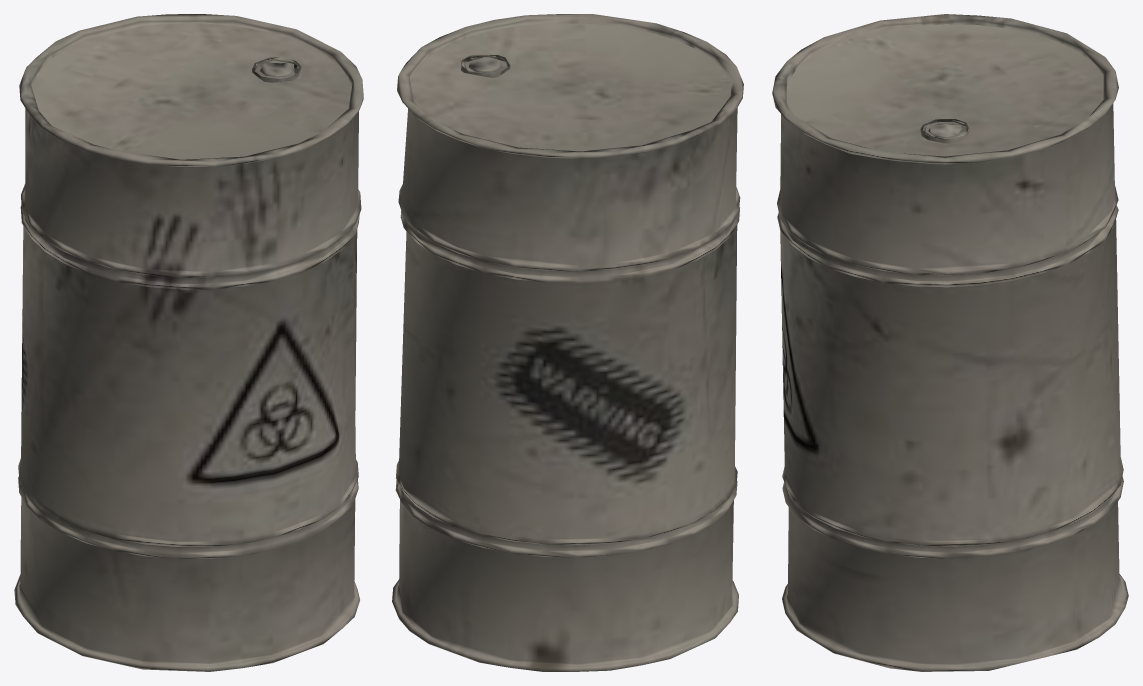
File: biohazard_barrel.glb
3 renders of one model, left to right at view 1: azimuth 30°, elevation 25°; view 2: azimuth 150°, elevation 25°; view 3: azimuth 270°, elevation 25°, orthographic.
Parts seen in each view (by area): view 1: biohazard_barrel; view 2: biohazard_barrel; view 3: biohazard_barrel.
Part boxes in pixels (box(x1,y1,x2,y2)): biohazard_barrel: box(14, 14, 363, 671); biohazard_barrel: box(392, 14, 743, 671); biohazard_barrel: box(772, 14, 1128, 671).
Bounding box in the file's own units: 0.5754 × 0.9499 × 0.5915.
Materials: 1 (1 with a texture image).
